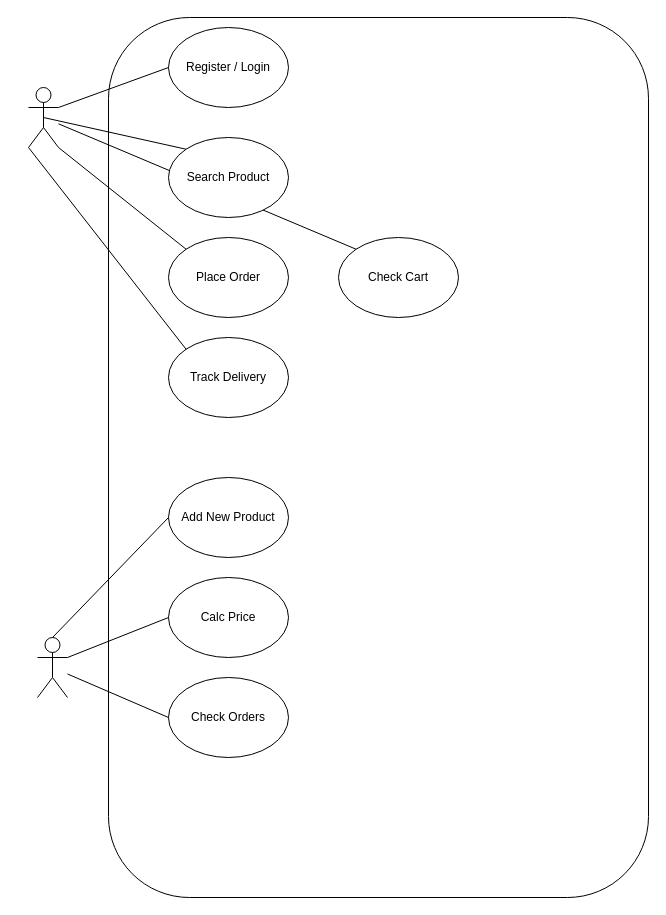
Image size: 666x915. Some labels were removed from this diagram. Each missing label, with the centre of its shape:
"Admin" belongs at point (52, 667).
"Customer" belongs at point (43, 117).
